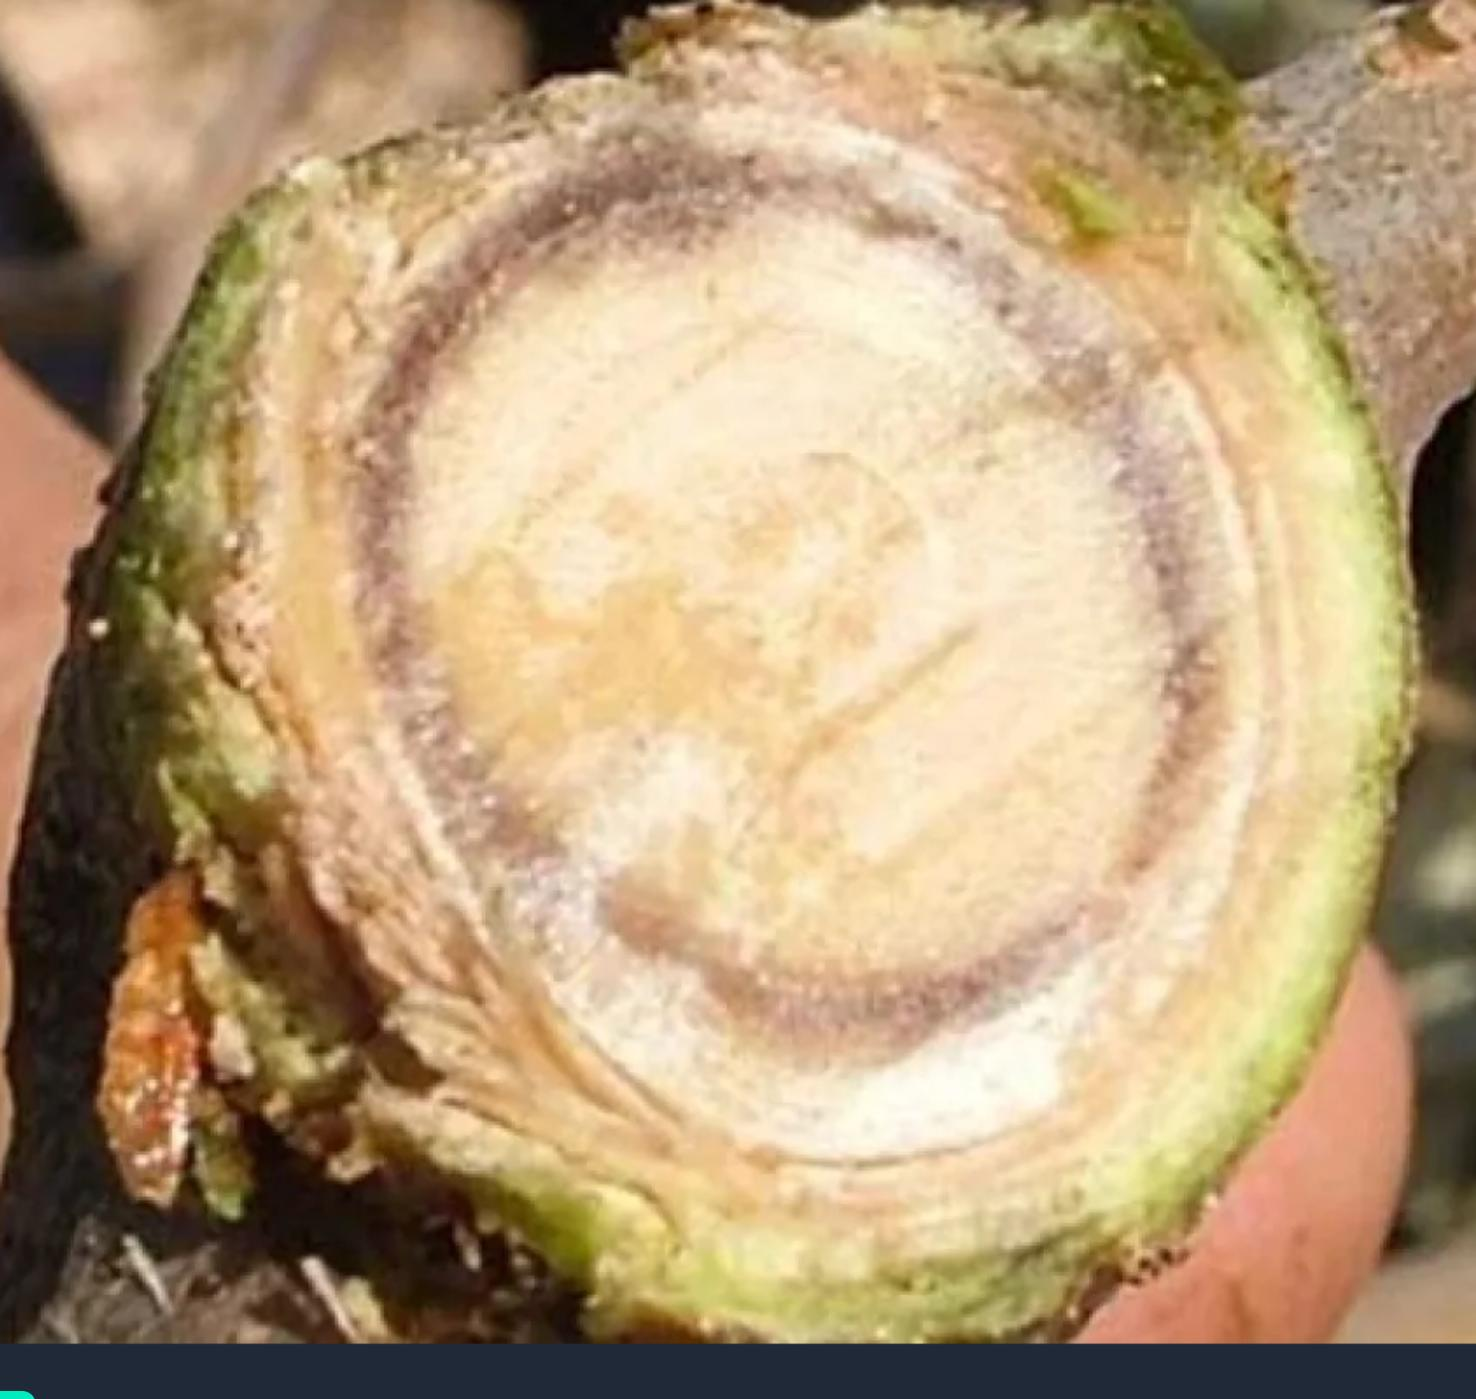Verticillium wilt: (350, 118, 1171, 872)
